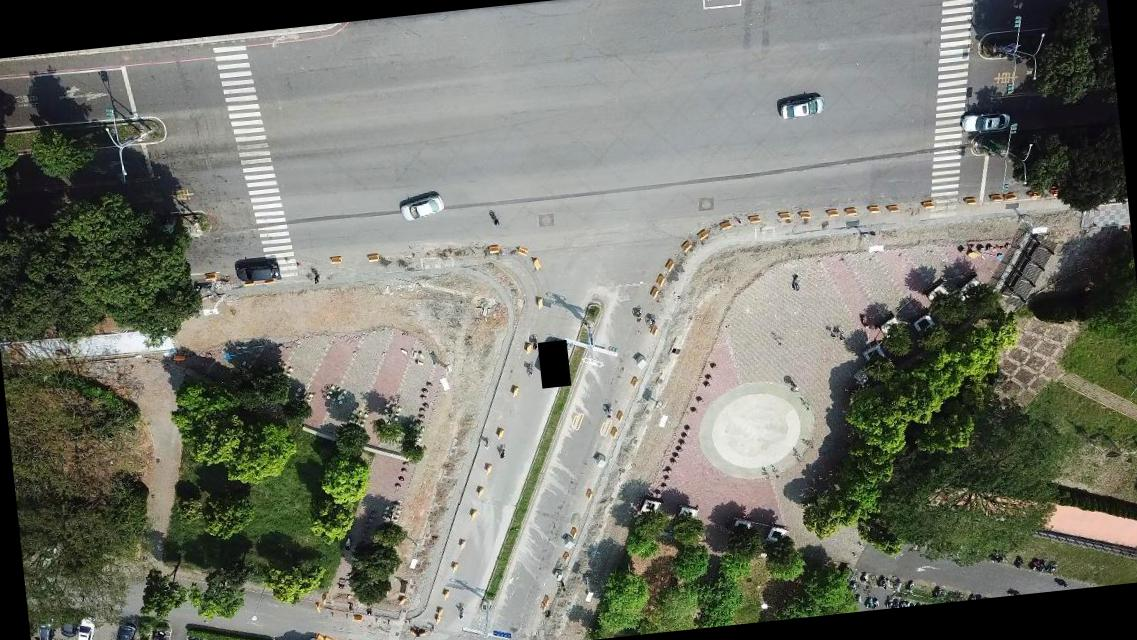vehicle: (398, 192, 446, 221), (778, 93, 826, 121), (960, 109, 1011, 135), (233, 259, 281, 283), (74, 615, 98, 639), (113, 622, 138, 639), (36, 617, 55, 639), (58, 616, 75, 638)
